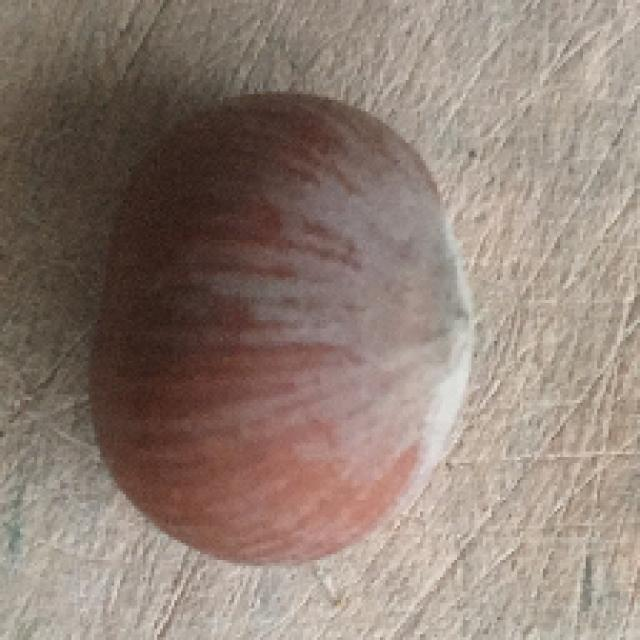qualityHazelnut: (73, 95, 484, 571)
